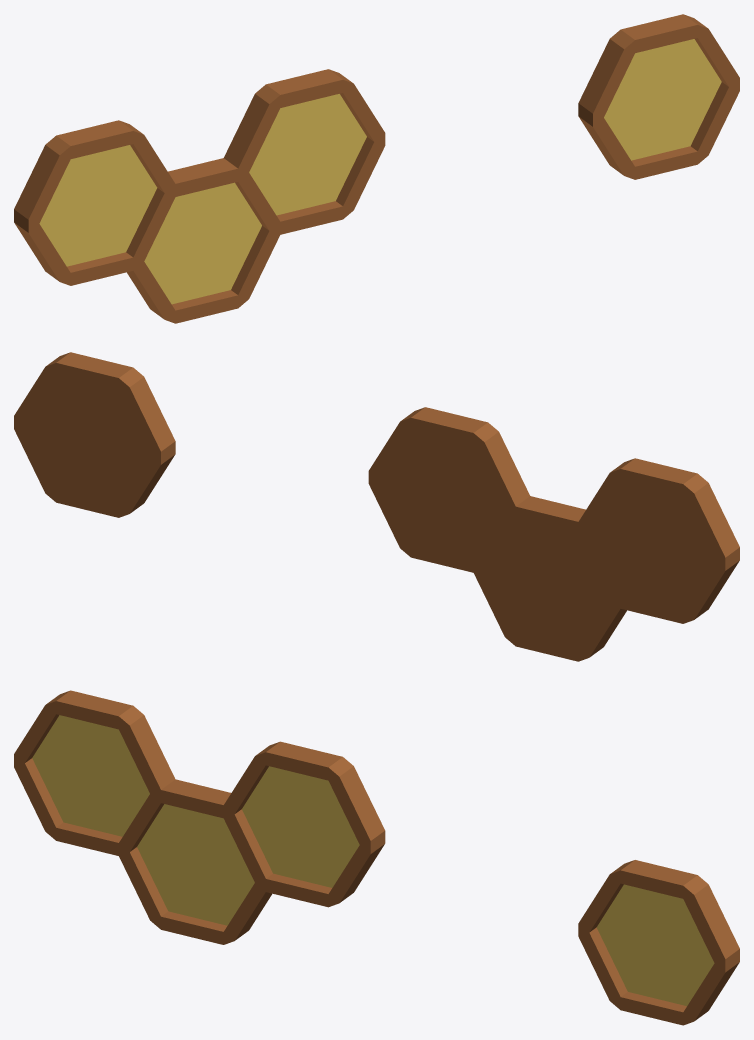
The model's file is candy Enemies.fbx.
3 views of the same model, one above another, from view 1: azimuth 30°, elevation 25°; view 2: azimuth 150°, elevation 25°; view 3: azimuth 330°, elevation 25° (orthographic).
Visible parts, largest first — view 1: HoneyComb.001, HoneyComb.002; view 2: HoneyComb.001, HoneyComb.002; view 3: HoneyComb.001, HoneyComb.002.
Boxes of the visible parts, x1,y1,x2,y2 form: HoneyComb.001: [14, 69, 385, 323]; HoneyComb.002: [578, 14, 739, 179]; HoneyComb.001: [368, 407, 739, 661]; HoneyComb.002: [14, 352, 175, 517]; HoneyComb.001: [14, 690, 385, 944]; HoneyComb.002: [578, 860, 739, 1025].
Bounding box in the file's own units: 509 × 139 × 18.
